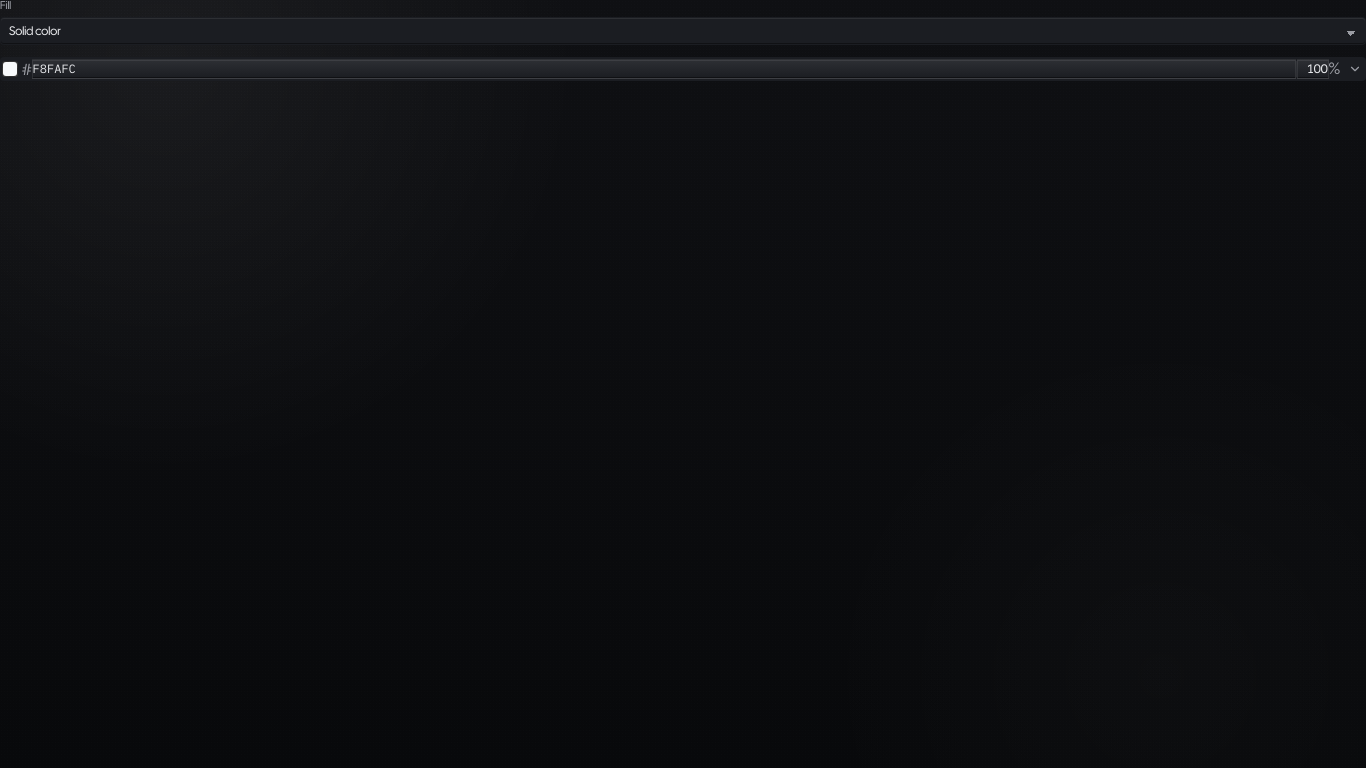
FillEditor › round-trips solid to gradient and back without losing the colour
The width and height of the screenshot is (1366, 768).
Click the button named "Choose Color color": (10, 69) [2,61,18,77]
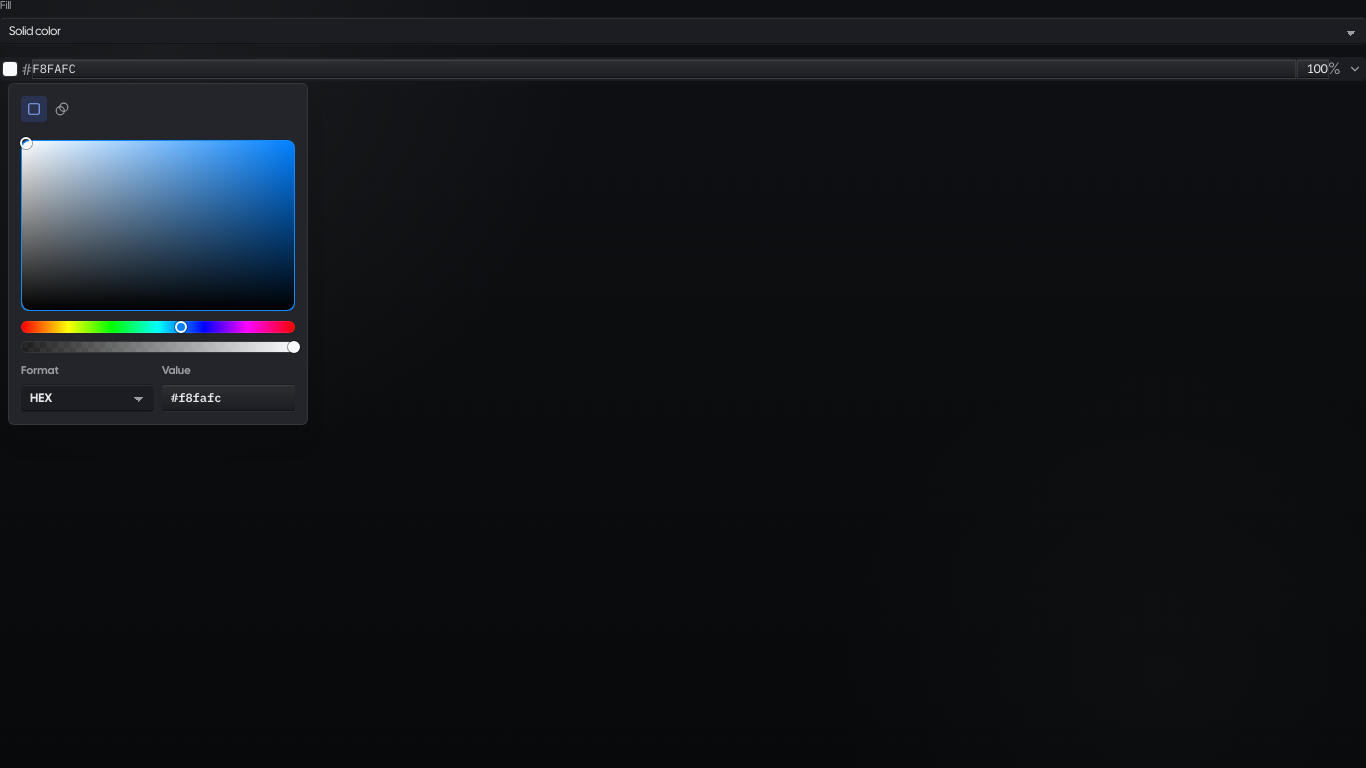
Click the button named "Color fill type: Linear gradient": (62, 109) [49,96,75,122]
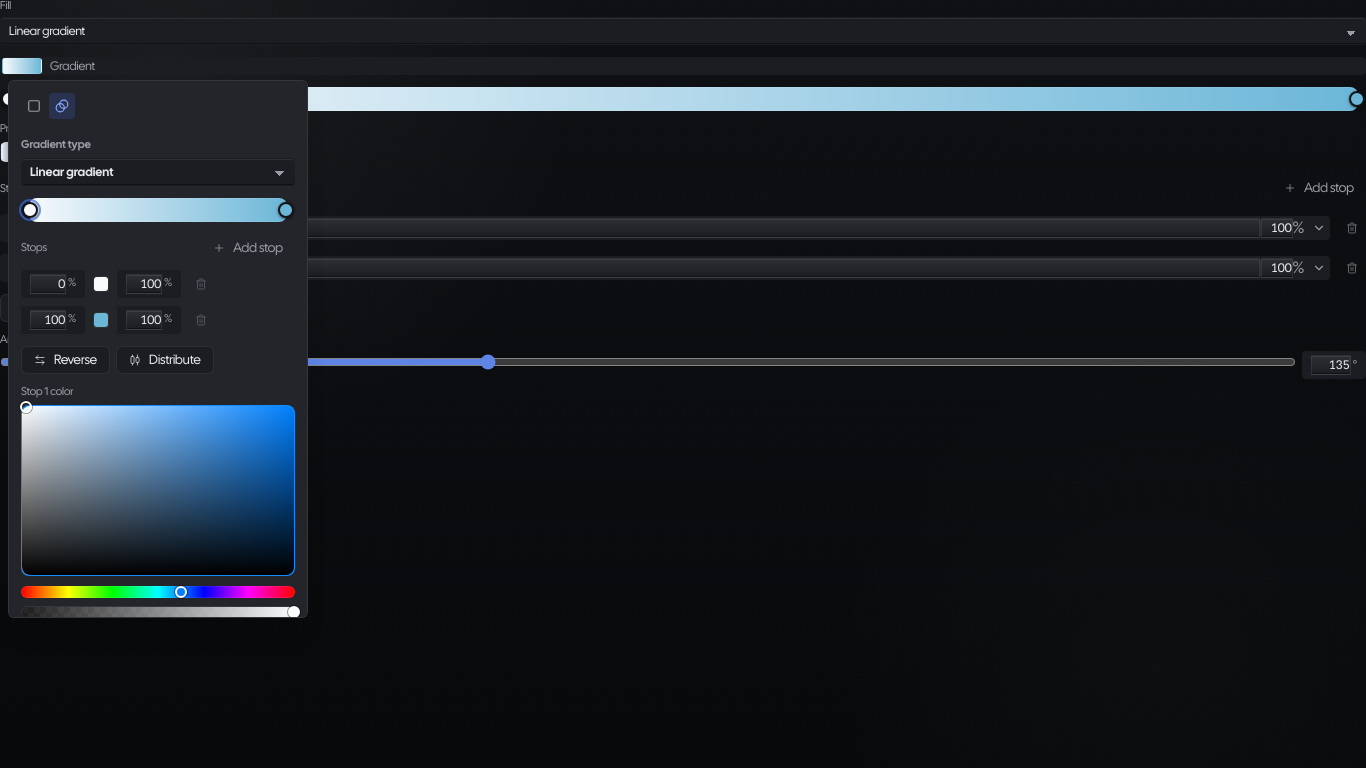
Check: the dialog named "Color picker" is shown, box [8,80,308,618]
Back to solid from inside the same panel: the seeded colour returns.
Click the button named "Color fill type: Solid color": (34, 106) [21,93,47,119]
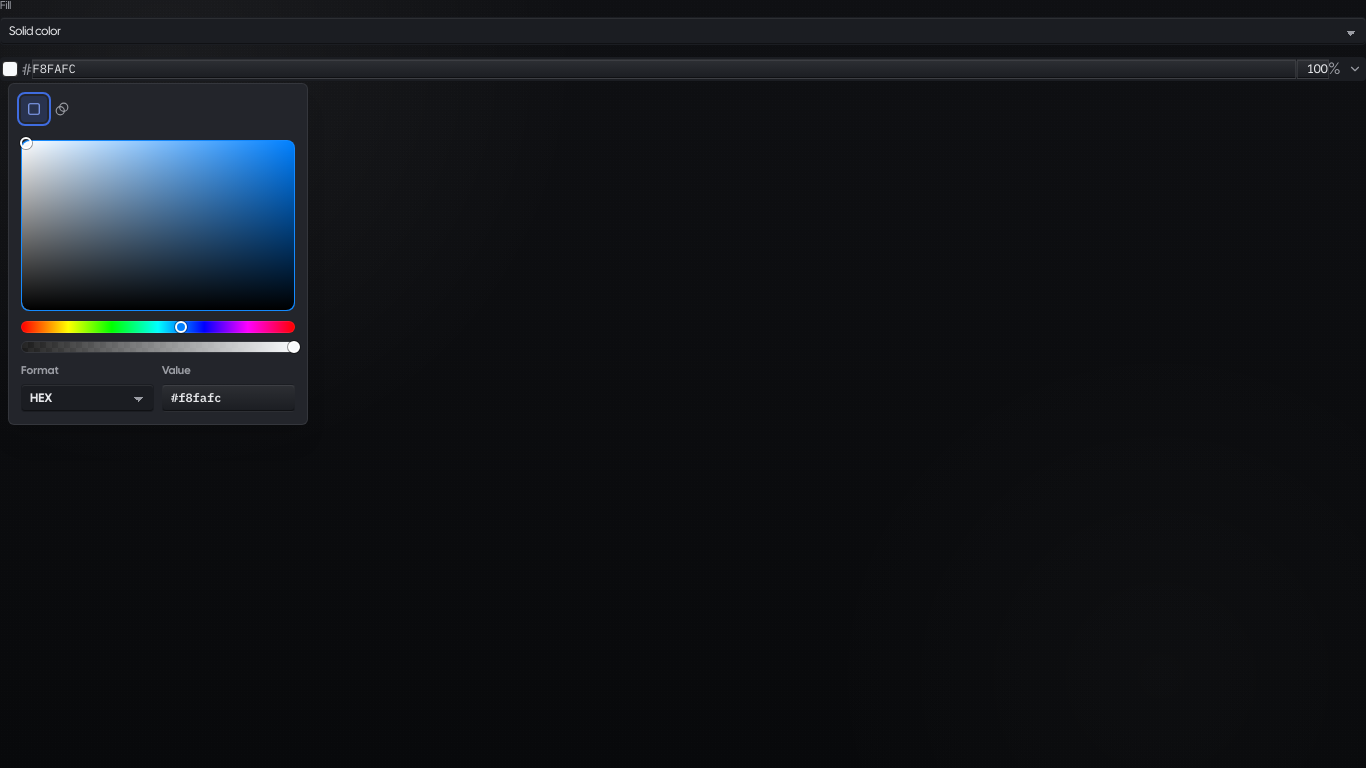
Check: the dialog named "Color picker" is shown, box [8,83,308,425]
Check: the field named "Color hex" holds "F8FAFC", box [32,59,1296,79]
